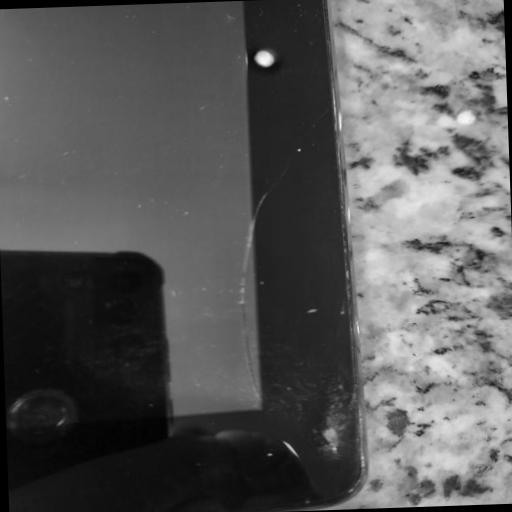phone: (0, 0, 366, 512)
